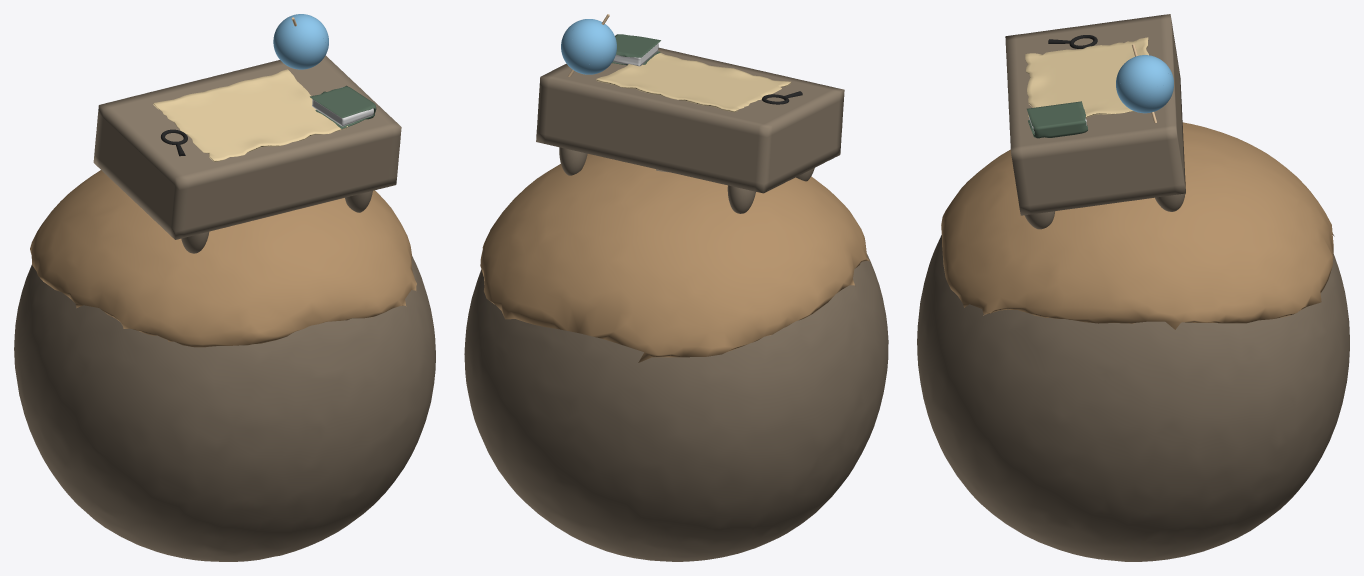
The model's file is planet_330_the_geographer.glb.
3 renders of one model, left to right at view 1: azimuth 30°, elevation 25°; view 2: azimuth 150°, elevation 25°; view 3: azimuth 270°, elevation 25°, orthographic. The views are drawn at different scales.
Parts seen in each view (by area): view 1: Object_4, Object_3, Object_7, Object_6, Object_9, Object_8, Object_10, Object_2; view 2: Object_4, Object_3, Object_7, Object_6, Object_10, Object_9, Object_8; view 3: Object_4, Object_3, Object_7, Object_6, Object_8, Object_9, Object_10.
Boxes of the visible parts, x1,y1,x2,y2 form: Object_4: (14,256,435,561); Object_3: (30,170,416,347); Object_7: (93,55,401,253); Object_6: (153,69,347,161); Object_9: (273,16,328,69); Object_8: (310,85,376,128); Object_10: (273,14,328,43); Object_2: (312,87,373,126); Object_4: (464,169,888,561); Object_3: (480,154,869,362); Object_7: (536,47,844,213); Object_6: (596,52,791,112); Object_10: (562,19,612,64); Object_9: (561,25,616,74); Object_8: (612,34,660,65); Object_4: (917,235,1349,561); Object_3: (941,122,1334,329); Object_7: (1005,14,1185,229); Object_6: (1025,37,1148,123); Object_8: (1027,101,1087,138); Object_9: (1116,55,1173,113); Object_10: (1118,55,1173,89).
Bounding box in the file's own units: 0.0931 × 0.1256 × 0.0931.
